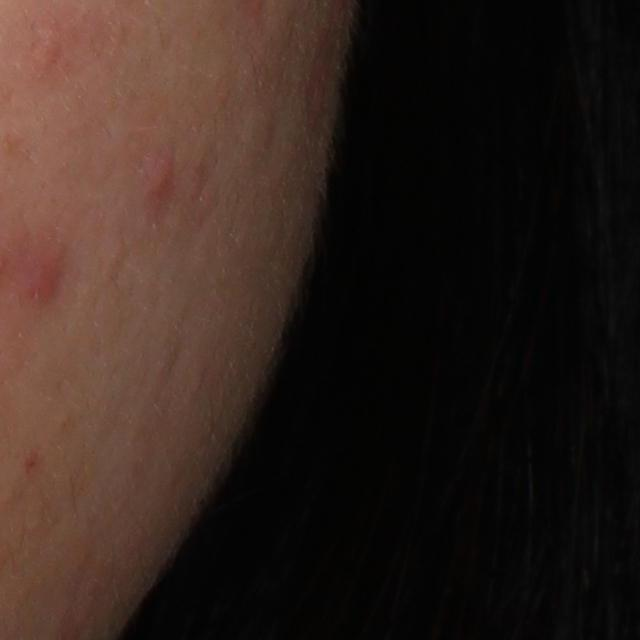papule: (19, 245, 65, 301), (145, 162, 177, 200)
